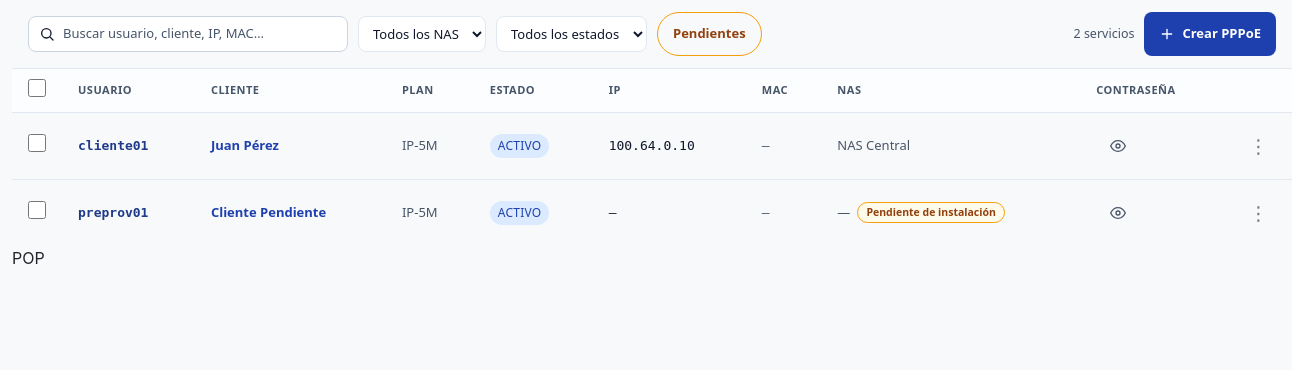
Scenario: v2: select-all y bulk con el chip "Pendientes" (pending server-side) › con el chip ON como ÚNICO filtro el botón aparece; el fetch de ids viaja con pending=true (wire campo por campo) y congela los ids del server
Click the button "Pendientes" at (709, 34), box [657,12,762,56]
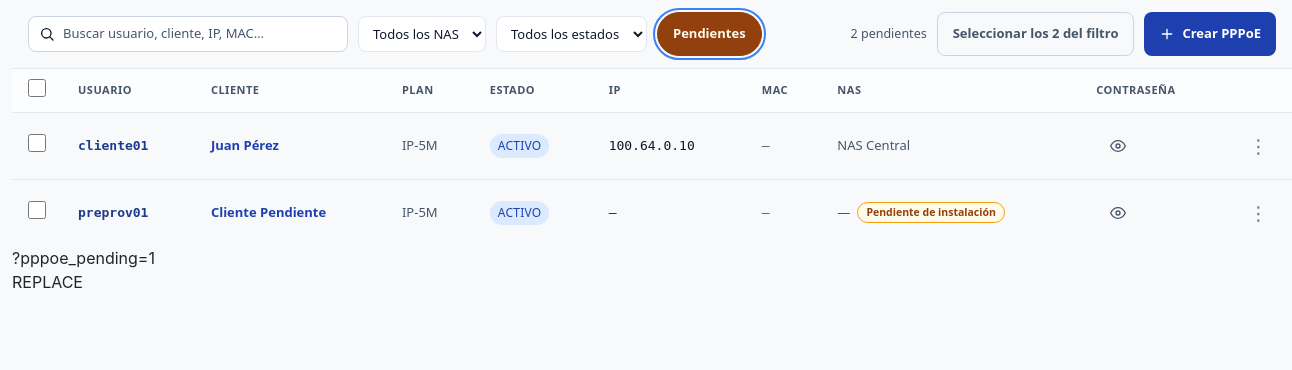
Click the button "Seleccionar los 2 del filtro" at (1036, 34), box [937,12,1134,56]
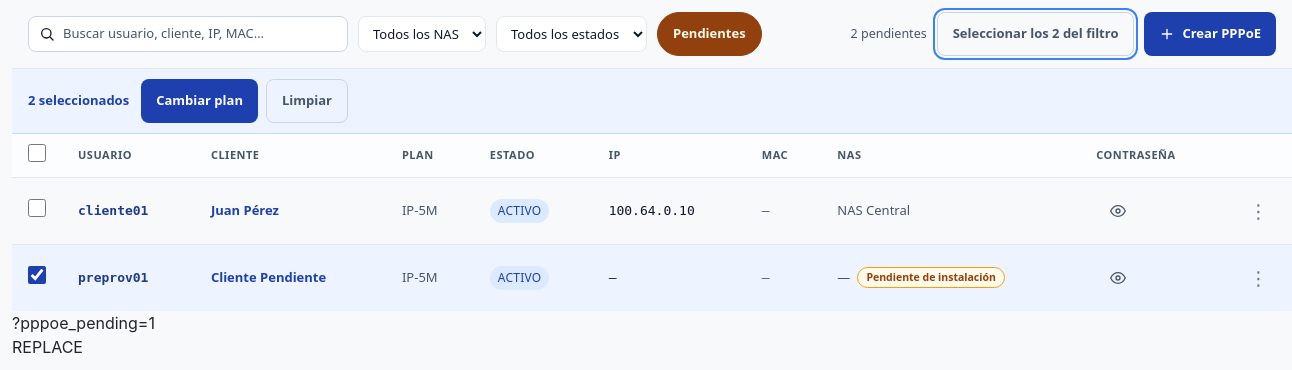
Check: the text "2 seleccionados" is shown, box [28,91,129,111]
